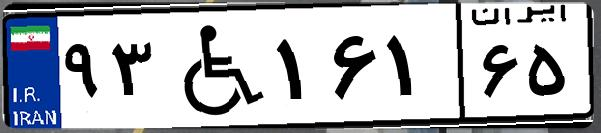1: (270, 28, 330, 110), (385, 28, 445, 110)
3: (110, 28, 158, 98)
5: (525, 38, 570, 115)
6: (330, 28, 385, 110), (475, 38, 525, 113)
9: (57, 26, 110, 100)
ژ (معلولین و جانبازان): (158, 12, 270, 120)
